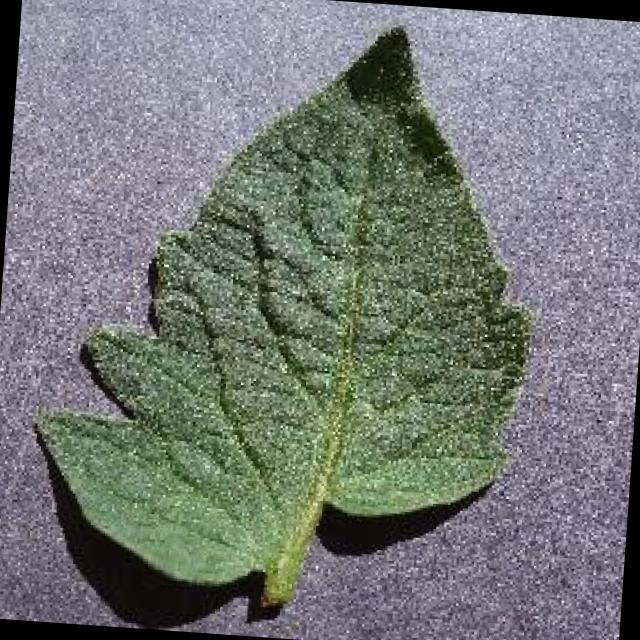Tomato_Healthy: (9, 4, 582, 614)
